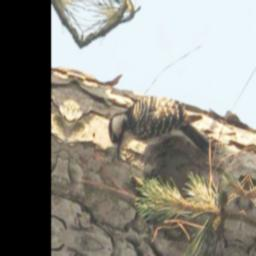Woodpecker: (103, 81, 218, 186)
